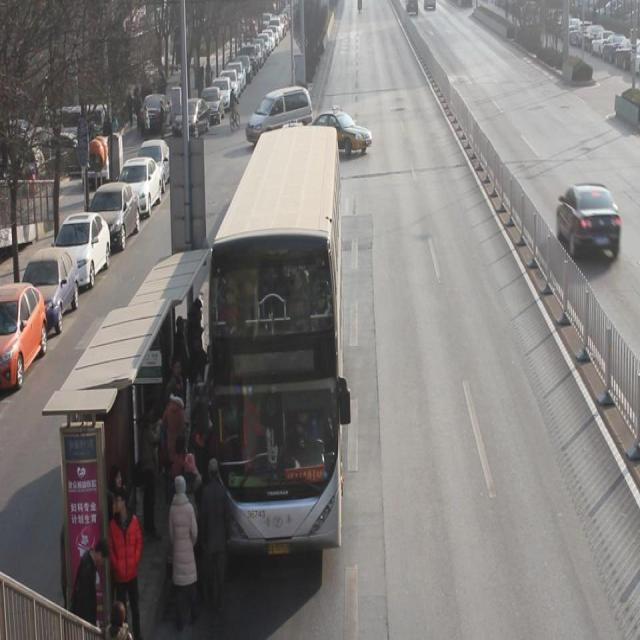car: (557, 181, 620, 262), (304, 113, 374, 160)
truck: (246, 88, 313, 153)
van: (210, 128, 341, 550)
